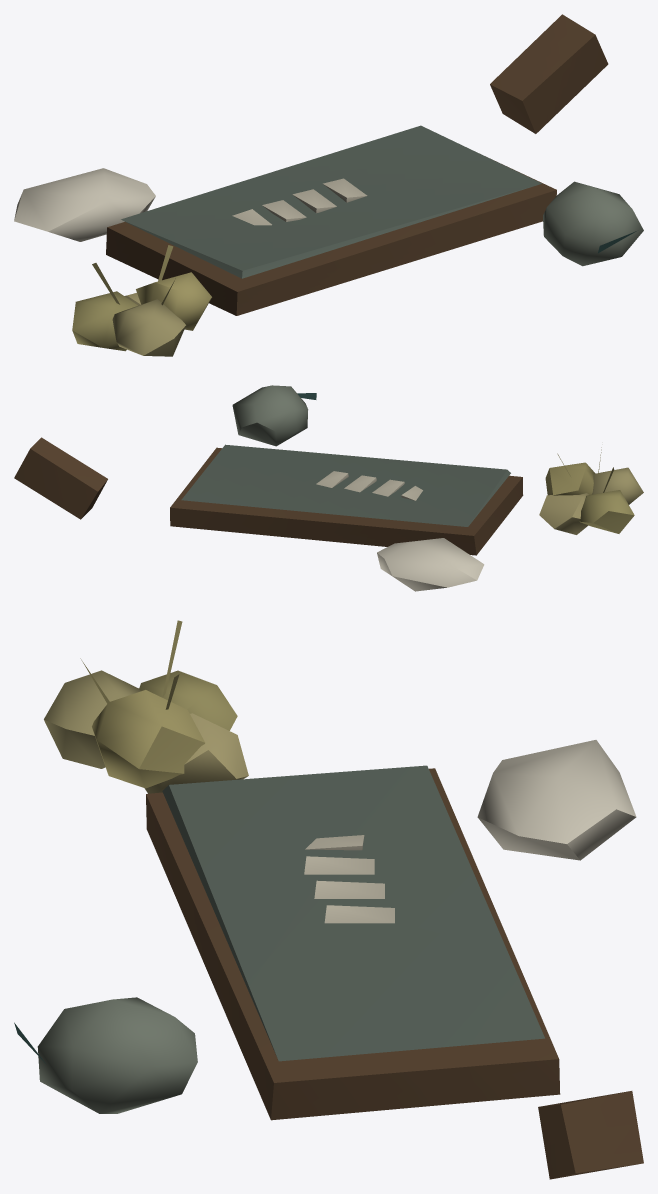
Rendered from bench_sign_b_lod2.glb.
The picture shows the model from 3 angles, top to bottom: view 1: azimuth 30°, elevation 25°; view 2: azimuth 150°, elevation 25°; view 3: azimuth 270°, elevation 25°; orthographic projection. The views are drawn at different scales.
Visible parts, largest first — view 1: Surface.001; view 2: Surface.001; view 3: Surface.001.
Part boxes in pixels (x1=…): Surface.001: x1=14, y1=14, x2=643, y2=356; Surface.001: x1=14, y1=385, x2=643, y2=591; Surface.001: x1=14, y1=620, x2=643, y2=1179.
Bounding box in the file's own units: 3.39 × 0.4895 × 1.85.
